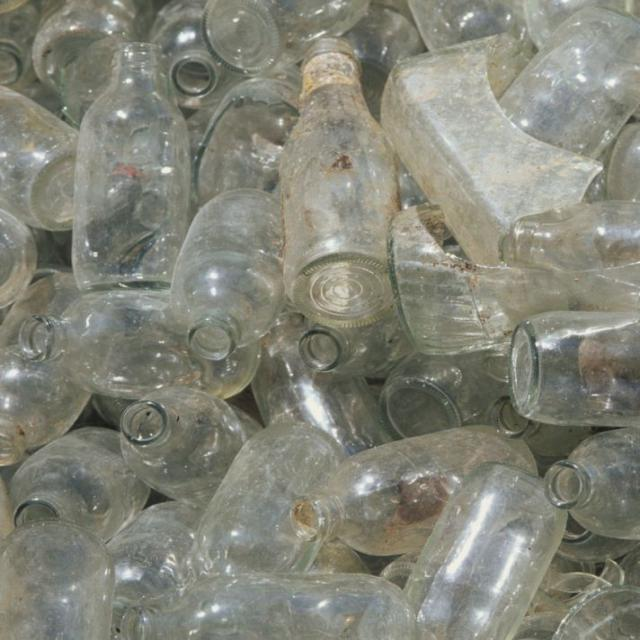electronic: (72, 41, 192, 299)
